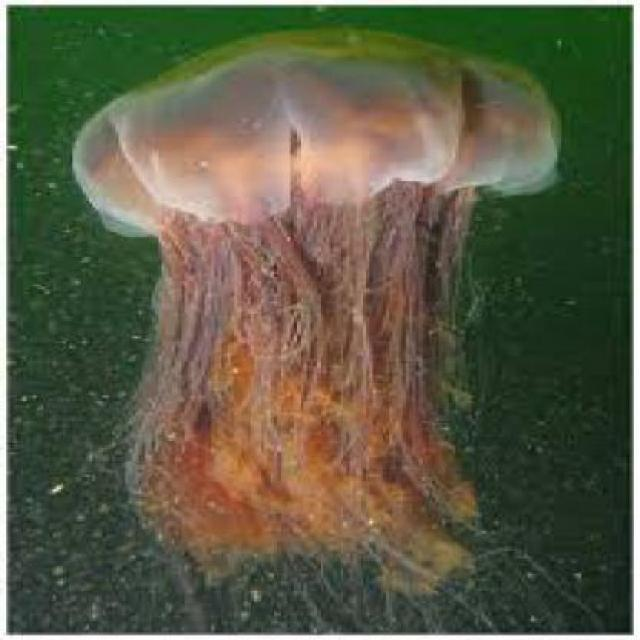Jellyfish: (66, 22, 560, 598)
